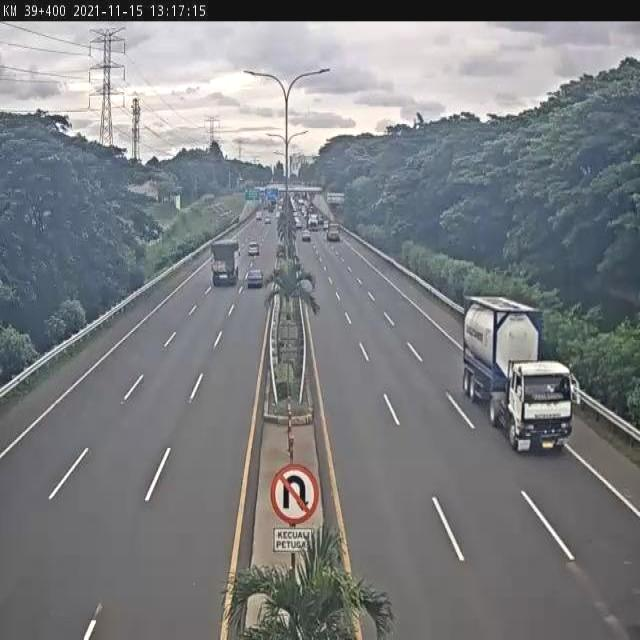Car: (247, 268, 264, 290), (248, 241, 260, 256), (301, 228, 313, 242), (264, 213, 272, 226), (323, 220, 329, 230)
Truck: (460, 291, 580, 455), (210, 239, 240, 287), (326, 219, 340, 242), (306, 212, 319, 232), (255, 211, 263, 221)
